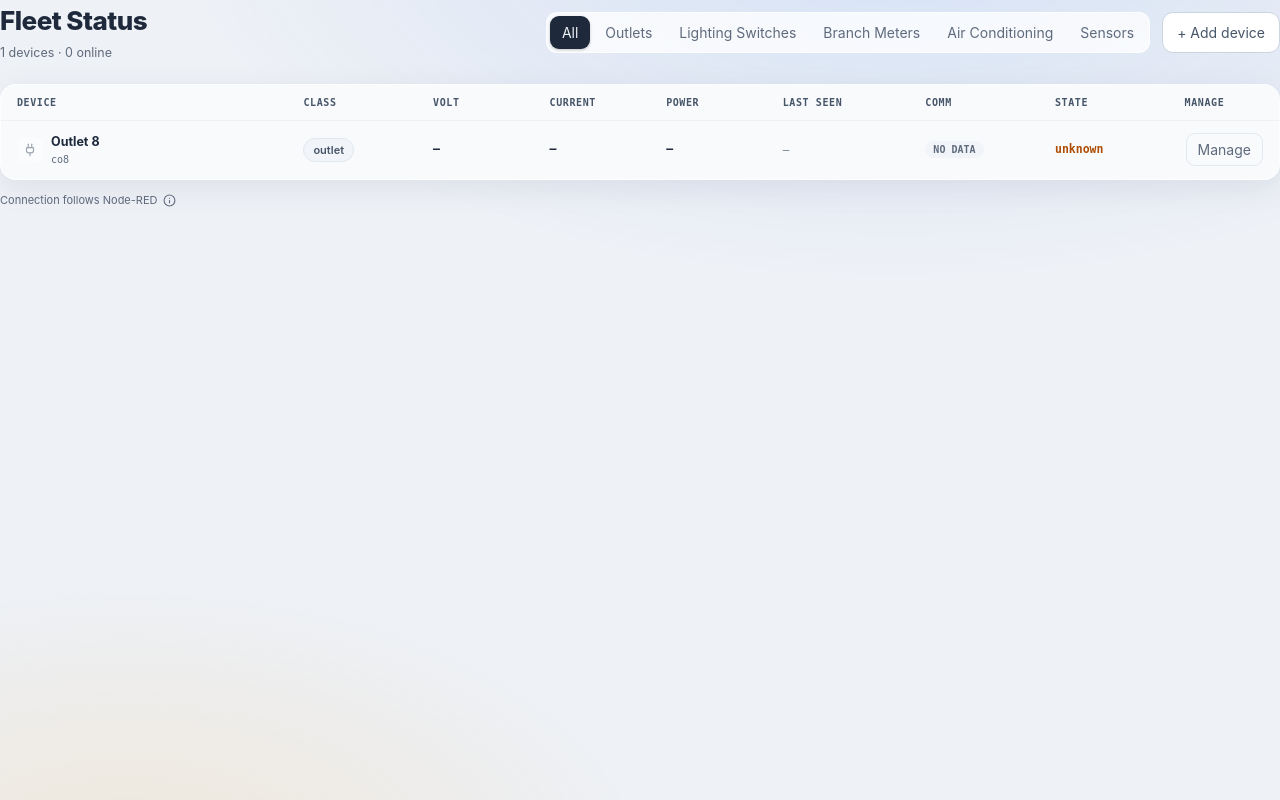
DevicesView › reaches the removal flow through that tab
Click the button with aria-label "Manage Outlet 8" at (1224, 150), box [1186, 133, 1263, 166]
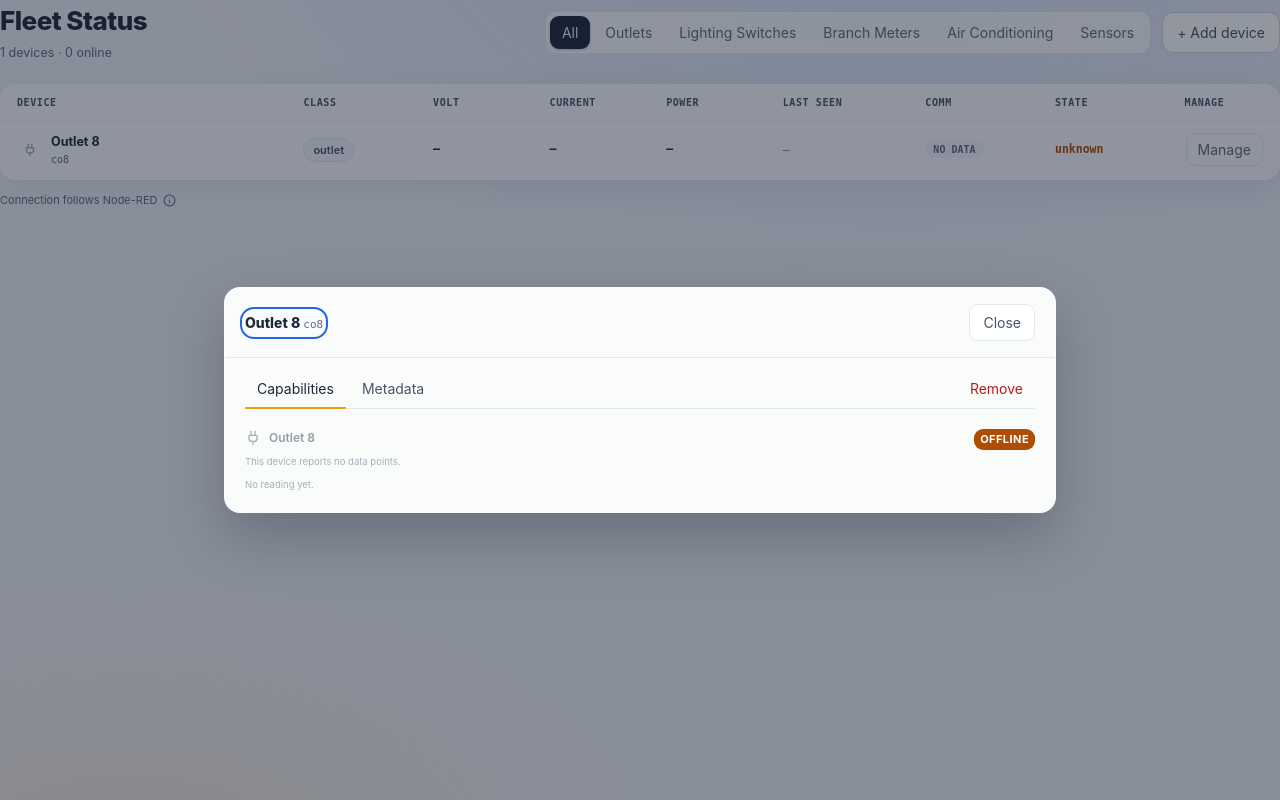
Click the tab "Remove" at (996, 390), box [958, 370, 1035, 409]
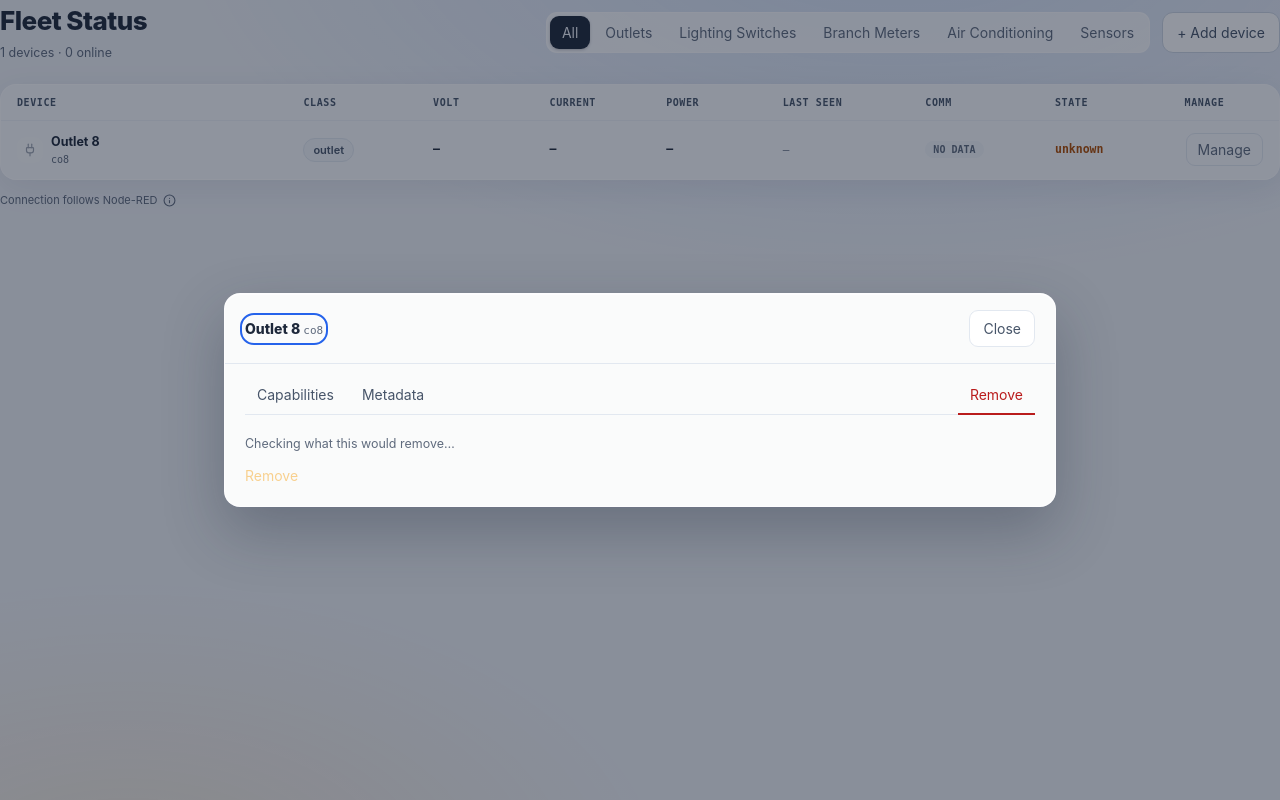
Expected: the text "Checking what this would remove…" is shown, [245, 436, 455, 451]
